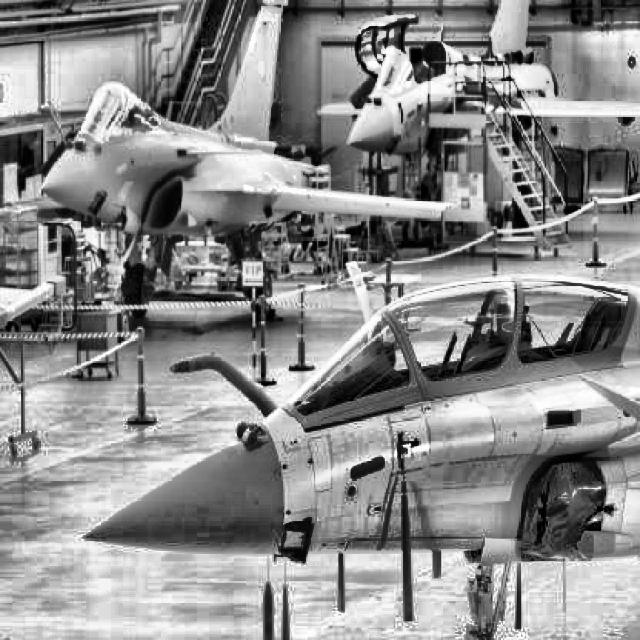Rafale: (81, 272, 639, 640), (0, 1, 457, 344), (317, 0, 638, 248)
